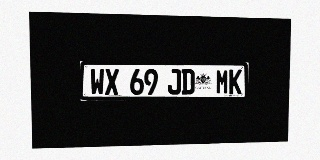6: (130, 69, 144, 95)
9: (144, 69, 158, 95)
D: (181, 69, 195, 94)
J: (168, 69, 181, 95)
K: (229, 69, 242, 94)
M: (216, 69, 229, 94)
W: (90, 69, 104, 95)
X: (105, 69, 119, 95)
